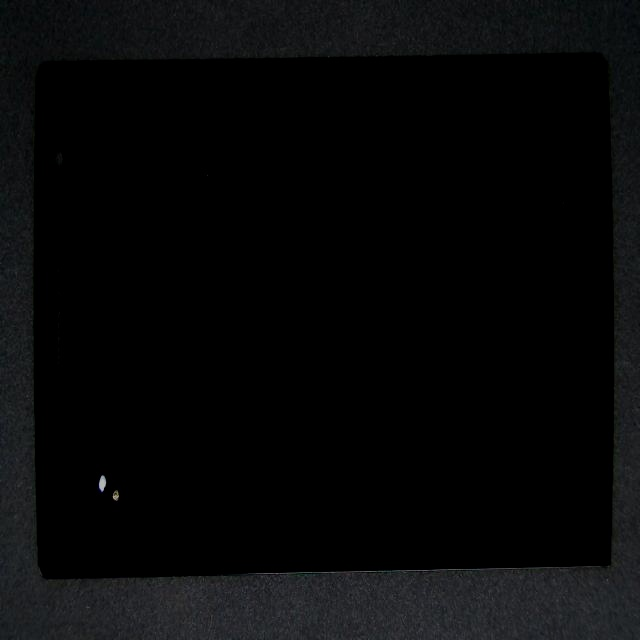stain: (2, 249, 147, 640)
